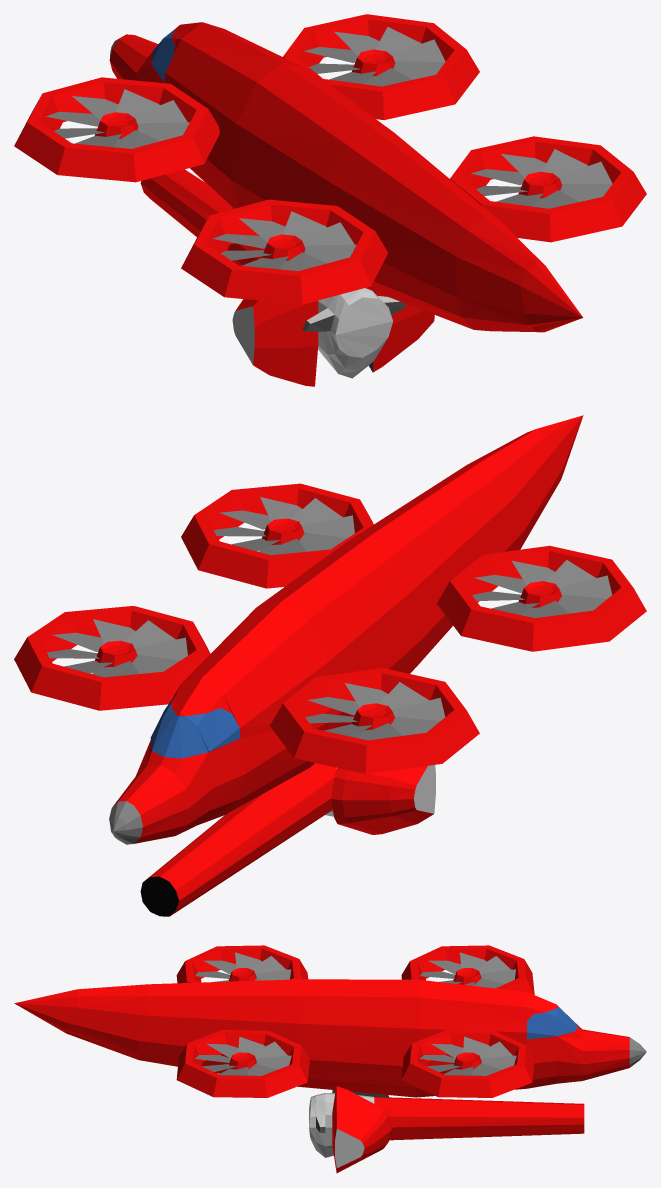
File: redTank.FBX
3 renders of one model, top to bottom at view 1: azimuth 30°, elevation 25°; view 2: azimuth 150°, elevation 25°; view 3: azimuth 270°, elevation 25°, orthographic. The views are drawn at different scales.
Parts seen in each view (by area): view 1: VIFS001, VIFS004, VIFS015, VIFS006, VIFS011, VIFS013, VIFS008, VIFS016, VIFS005, VIFS014, VIFS012, VIFS002 (+1 smaller); view 2: VIFS001, VIFS006, VIFS004, VIFS015, VIFS013, VIFS011, VIFS012, VIFS014, VIFS005, VIFS016, VIFS002, VIFS007 (+2 smaller); view 3: VIFS001, VIFS006, VIFS011, VIFS013, VIFS004, VIFS015, VIFS008, VIFS014, VIFS012, VIFS005, VIFS016, VIFS002.
Part boxes in pixels (x1,y1,x2,y2): VIFS001: [109, 22, 583, 332]; VIFS004: [14, 77, 219, 182]; VIFS015: [181, 199, 387, 304]; VIFS006: [140, 169, 434, 386]; VIFS011: [450, 136, 646, 242]; VIFS013: [283, 14, 479, 119]; VIFS008: [232, 288, 399, 378]; VIFS016: [213, 211, 356, 270]; VIFS005: [46, 89, 189, 148]; VIFS014: [304, 27, 445, 86]; VIFS012: [471, 149, 612, 208]; VIFS002: [151, 29, 175, 82]; VIFS001: [113, 415, 583, 843]; VIFS006: [145, 763, 433, 915]; VIFS004: [269, 668, 479, 773]; VIFS015: [437, 545, 646, 651]; VIFS013: [14, 606, 210, 710]; VIFS011: [181, 483, 373, 588]; VIFS012: [213, 497, 354, 555]; VIFS014: [47, 619, 187, 677]; VIFS005: [305, 682, 445, 740]; VIFS016: [472, 560, 612, 617]; VIFS002: [150, 697, 240, 758]; VIFS007: [140, 876, 178, 916]; VIFS001: [14, 979, 629, 1097]; VIFS006: [332, 1086, 584, 1172]; VIFS011: [176, 1030, 309, 1097]; VIFS013: [401, 1030, 534, 1097]; VIFS004: [401, 945, 534, 994]; VIFS015: [176, 945, 308, 983]; VIFS008: [309, 1093, 374, 1167]; VIFS014: [420, 1036, 516, 1075]; VIFS012: [195, 1036, 291, 1075]; VIFS005: [420, 952, 515, 988]; VIFS016: [195, 952, 291, 982]; VIFS002: [527, 1006, 578, 1039].
Bounding box in the file's own units: 2.57 × 1.56 × 4.88.
